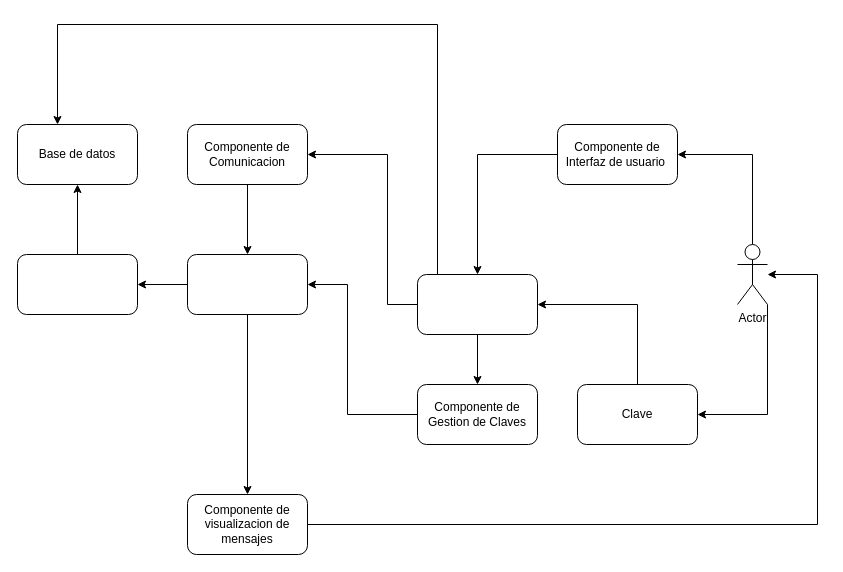
The diagram is 843 pixels wide and 572 high, and some of its shapes have lost their labels. Each missing label, with the centre of its shape:
Componente de Almacenamiento de Mensajes: point (77, 284)
Componente de Cifrado y Desifrado: point (247, 284)
Componente validaciones: point (477, 304)
